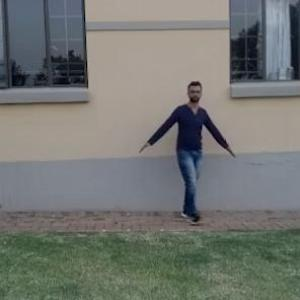land: (134, 85, 230, 232)
